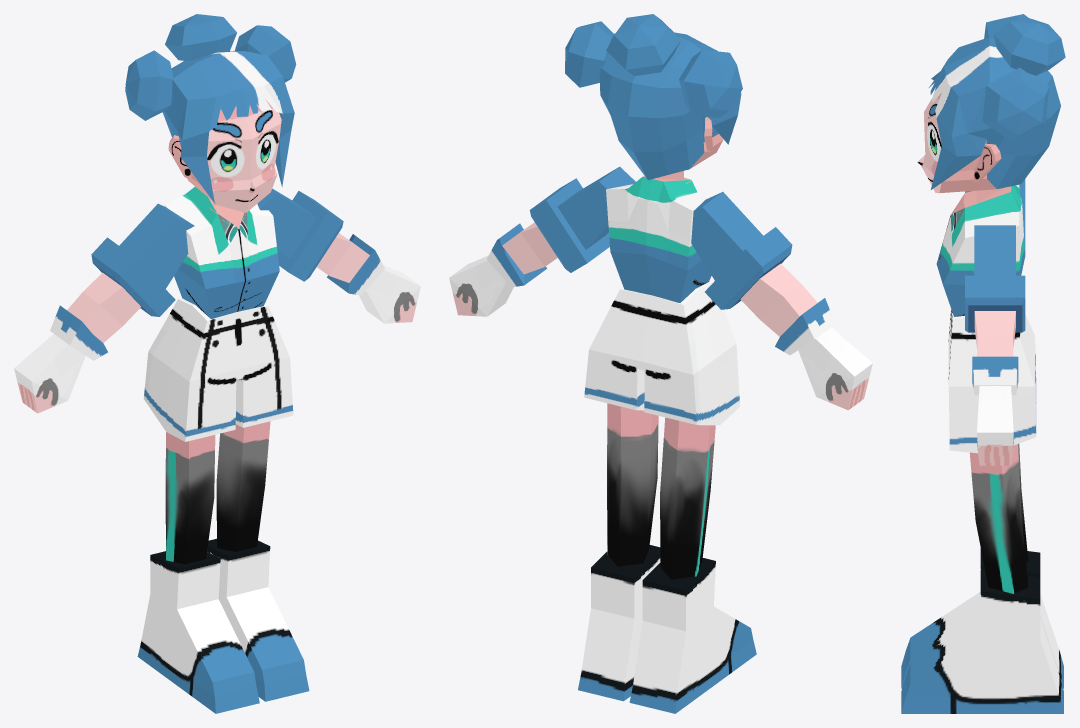
Rendered from godette_low_poly2.glb.
3 renders of one model, left to right at view 1: azimuth 30°, elevation 25°; view 2: azimuth 150°, elevation 25°; view 3: azimuth 270°, elevation 25°, orthographic. The views are drawn at different scales.
Parts seen in each view (by area): view 1: Shoe, Arm, Pants, Head, Legs, Shirt, Hand, BunSides, BunCenter; view 2: Shoe, Arm, Pants, Legs, Head, Shirt, Hand, BunSides, BunCenter; view 3: Shoe, Head, Arm, Legs, Pants, Shirt, BunSides, BunCenter, Hand, Ear.
Part boxes in pixels (bbox=[...]): Shoe: bbox=[137, 538, 309, 713]; Arm: bbox=[50, 188, 384, 360]; Pants: bbox=[143, 298, 293, 441]; Head: bbox=[162, 51, 294, 212]; Legs: bbox=[165, 421, 270, 564]; Shirt: bbox=[164, 186, 279, 318]; Hand: bbox=[14, 265, 420, 413]; BunSides: bbox=[125, 25, 296, 120]; BunCenter: bbox=[165, 14, 236, 60]; Shoe: bbox=[578, 545, 756, 713]; Arm: bbox=[486, 166, 835, 355]; Pants: bbox=[584, 281, 739, 425]; Legs: bbox=[607, 403, 715, 579]; Head: bbox=[599, 32, 741, 180]; Shirt: bbox=[606, 176, 711, 302]; Hand: bbox=[449, 255, 872, 410]; BunSides: bbox=[565, 21, 742, 117]; BunCenter: bbox=[606, 14, 681, 76]; Shoe: bbox=[901, 548, 1063, 713]; Head: bbox=[917, 37, 1060, 193]; Arm: bbox=[965, 179, 1025, 395]; Legs: bbox=[969, 443, 1028, 593]; Pants: bbox=[948, 309, 1036, 453]; Shirt: bbox=[936, 184, 1024, 316]; BunSides: bbox=[982, 14, 1049, 141]; BunCenter: bbox=[993, 16, 1065, 75]; Hand: bbox=[977, 386, 1013, 465]; Ear: bbox=[972, 144, 1001, 182].
Size of the model in its own units: 1.25 by 1.97 by 0.4392.
1 material, 1 textured.
